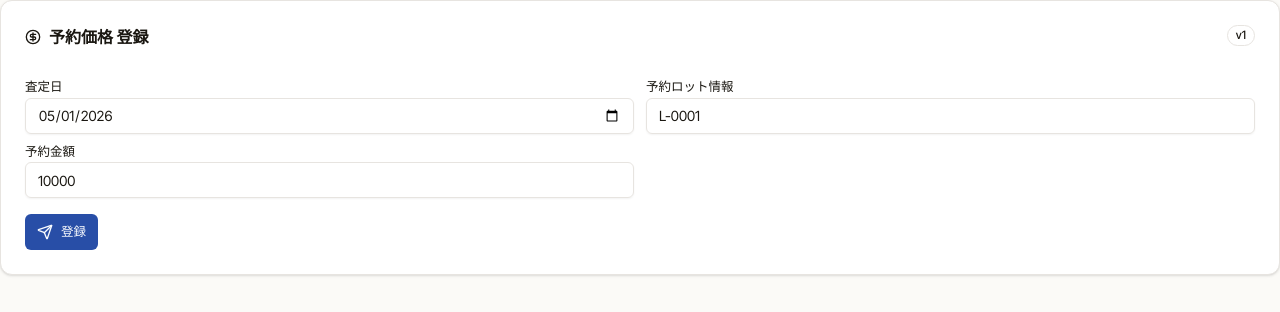
Test case: ReservationPriceForm (FE-COMP-RICH-RP-*) › FE-COMP-RICH-RP-001: 予約金額が空 → field エラー、API 未呼出
The width and height of the screenshot is (1280, 312).
Clear the number field labelled "予約金額" at [330, 180], box x1=25 y1=162 x2=634 y2=198
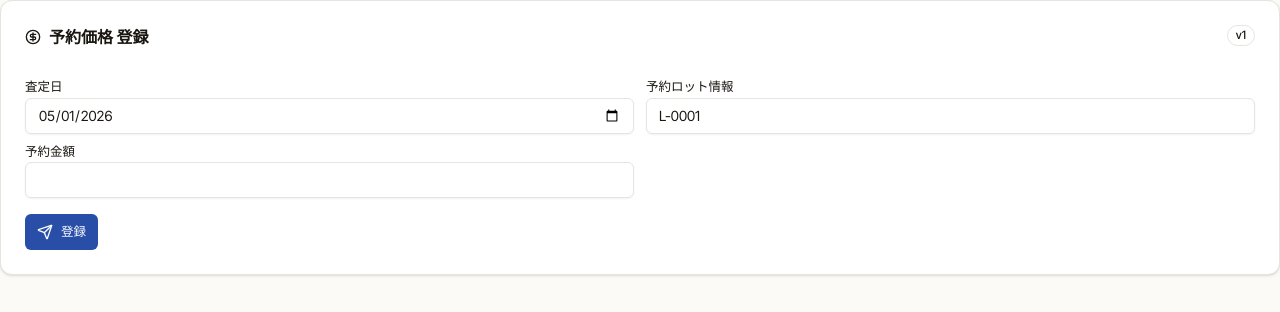
Submit the form "登録", box x1=25 y1=81 x2=1255 y2=250
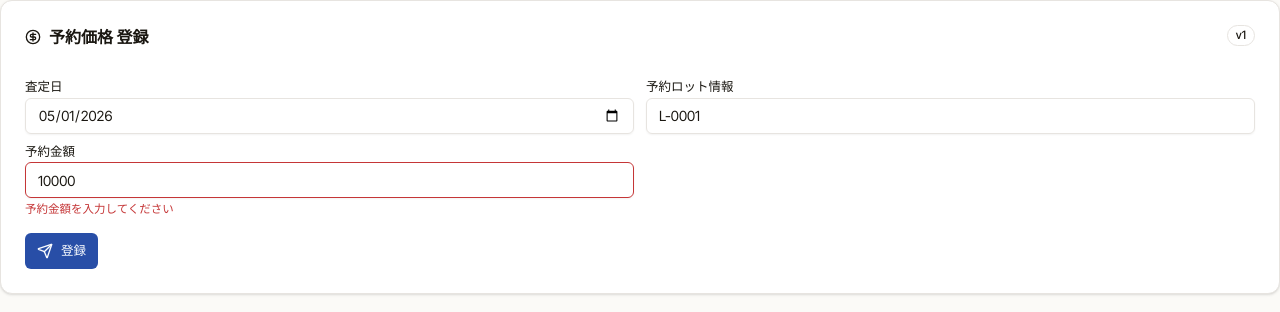
Now the text "予約金額を入力してください" is shown, box x1=25 y1=202 x2=174 y2=216
